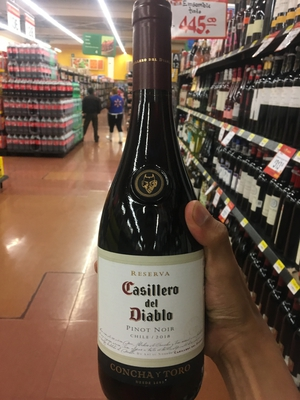casillero del diablo pinot noir: (89, 4, 223, 400)
